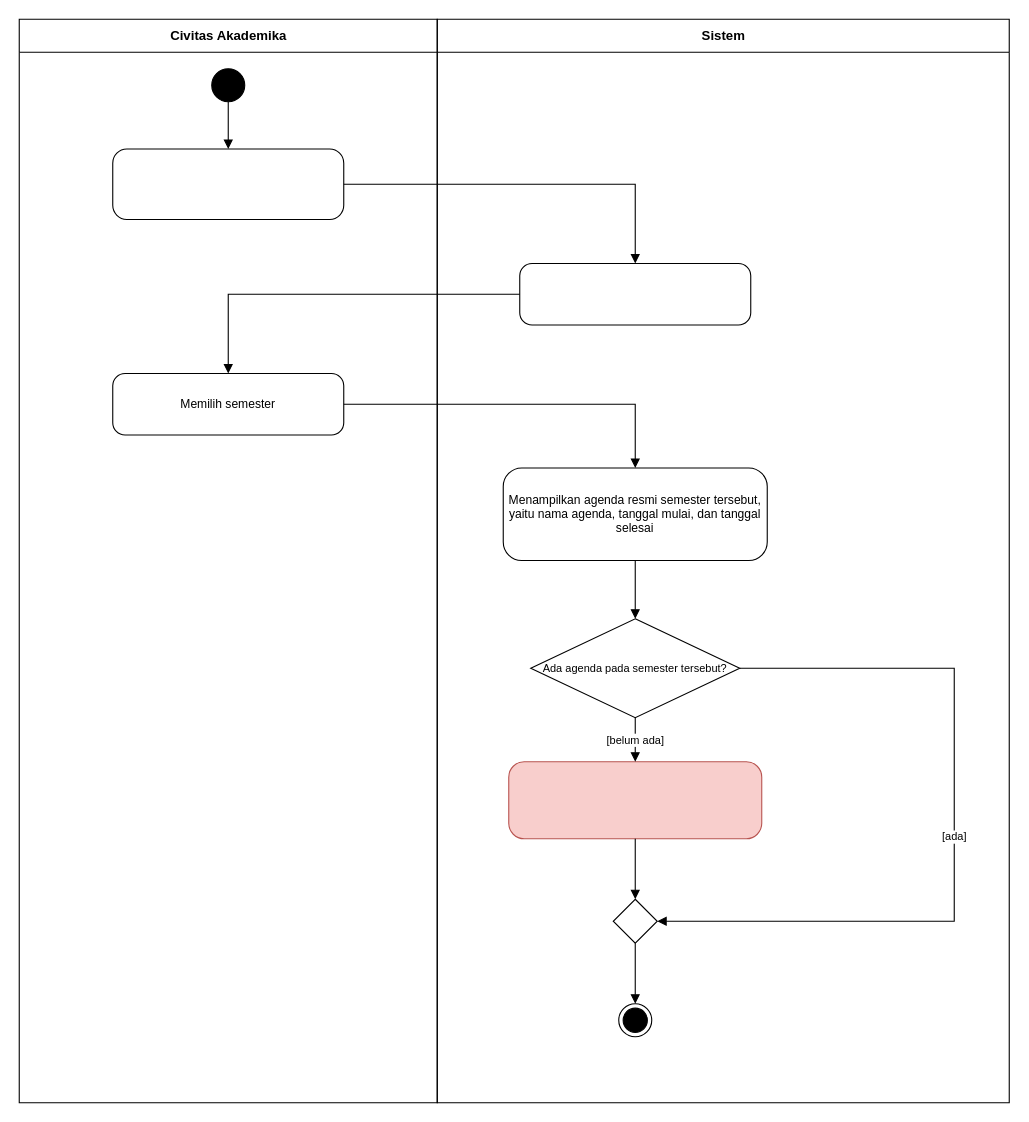
Some shapes in this 1029 by 1122 pixel diagram are drawn without their labels. Here are the shapes that lost their labels. From the top down, the centre of each, then its label:
At [228,183]: "Membuka fungsi Lihat Kalender Akademik".
At [635,293]: "Menampilkan daftar semester".
At [635,800]: "Menampilkan pesan belum ada agenda akademik pada semester tersebut".
